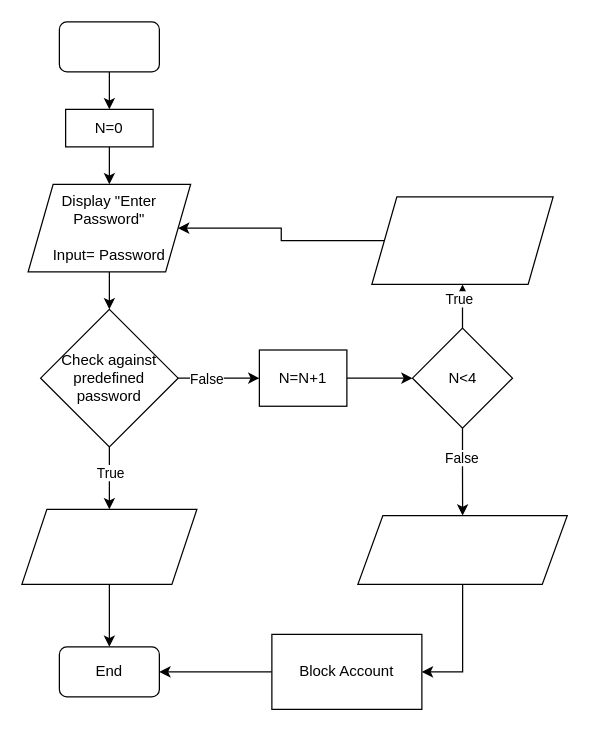
Image size: 590x731. Some labels were removed from this diagram. Each missing label, with the box of its shape:
Display "Incorrect Password, (3-N) tries remaining": (371, 196, 553, 284)
Display "Password correct": (21, 508, 197, 584)
Display "Your account has been blocked": (357, 514, 567, 584)
Start: (58, 21, 159, 72)
